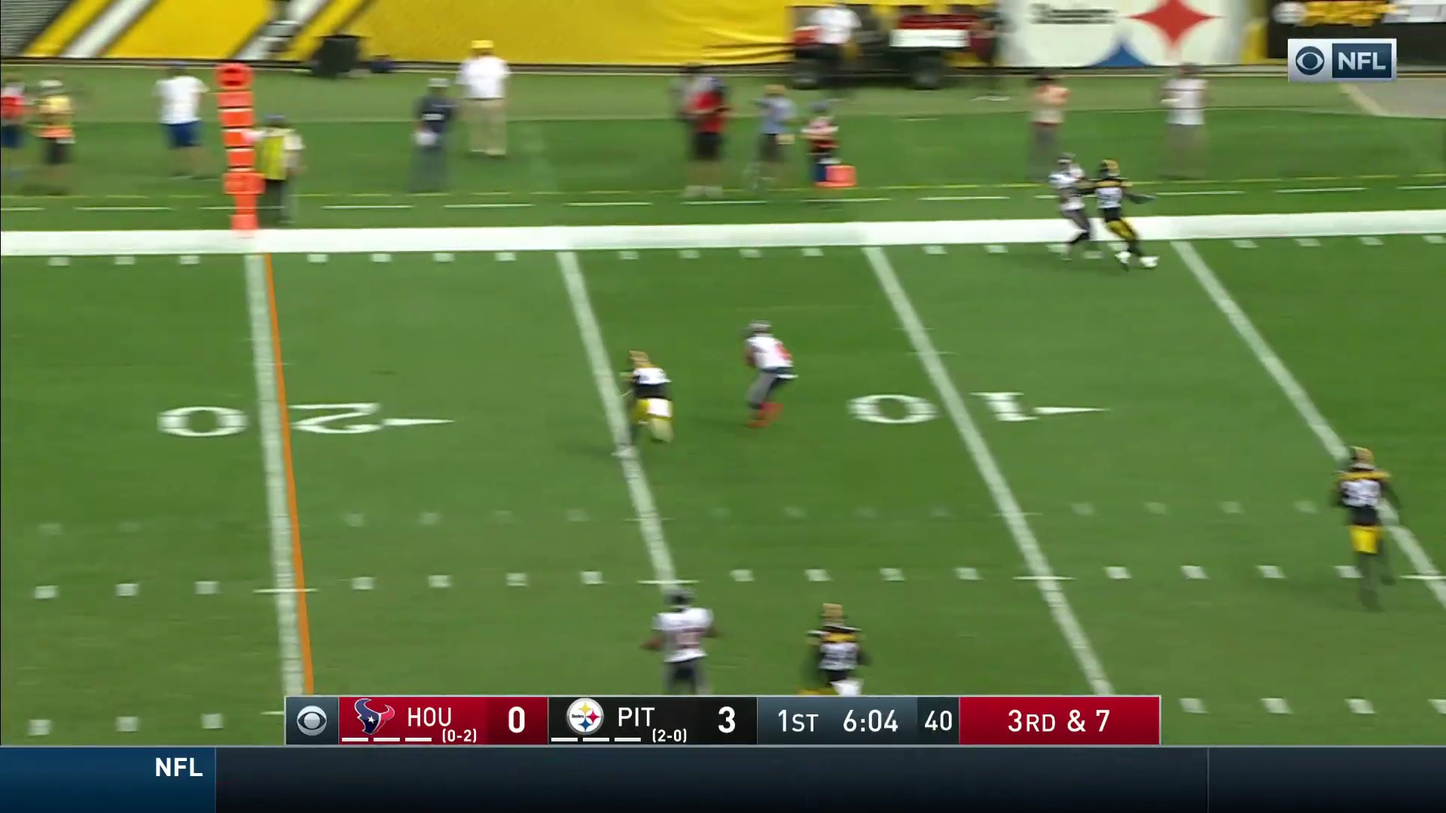Player: (1337, 450, 1397, 556), (646, 606, 714, 691), (1092, 158, 1145, 264), (744, 321, 795, 427), (629, 349, 674, 442), (1049, 155, 1090, 243), (1161, 54, 1205, 126)
